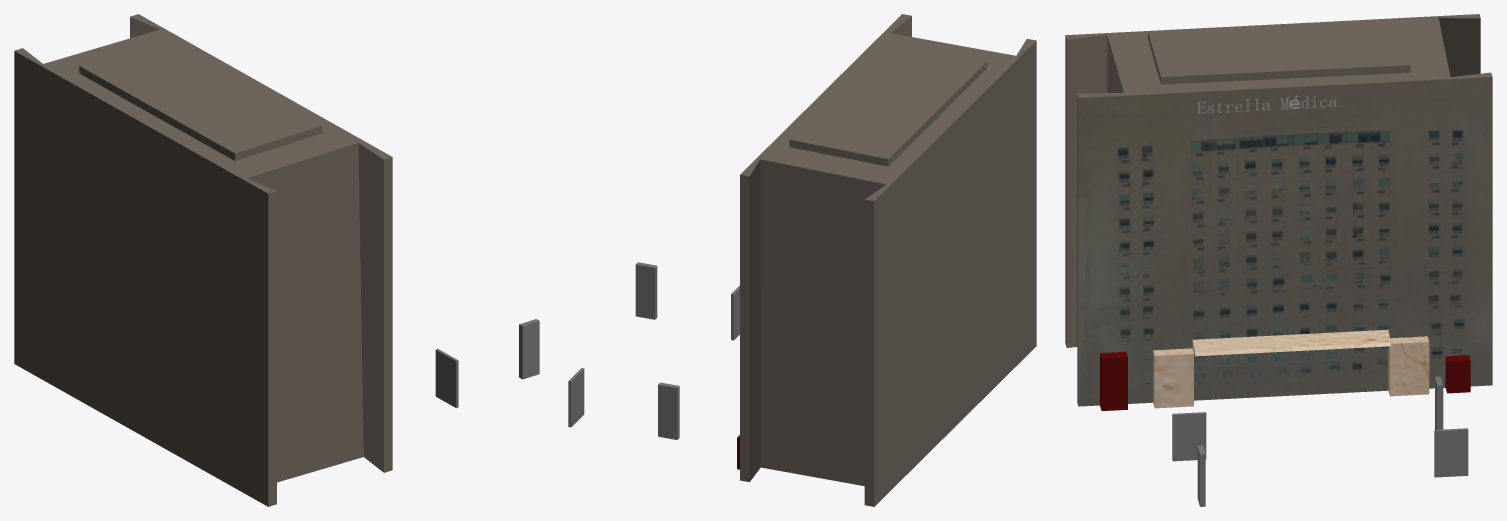
The model's file is Star_medica_txt.obj.
3 views of the same model, side by side, from view 1: azimuth 30°, elevation 25°; view 2: azimuth 150°, elevation 25°; view 3: azimuth 270°, elevation 25° (orthographic). The views are drawn at different scales.
Parts seen in each view (by area): view 1: Base, Estacionamiento; view 2: Base, Estacionamiento; view 3: Base, Entrada_principal, Estacionamiento.
Boxes of the visible parts, x1,y1,x2,y2 form: Base: (14,14,392,506); Estacionamiento: (435,319,539,407); Base: (740,14,1036,506); Estacionamiento: (568,262,739,439); Base: (1065,14,1492,406); Entrada_principal: (1100,329,1470,410); Estacionamiento: (1172,376,1468,506).
Bounding box in the file's own units: 98.13 × 78.38 × 95.99.
